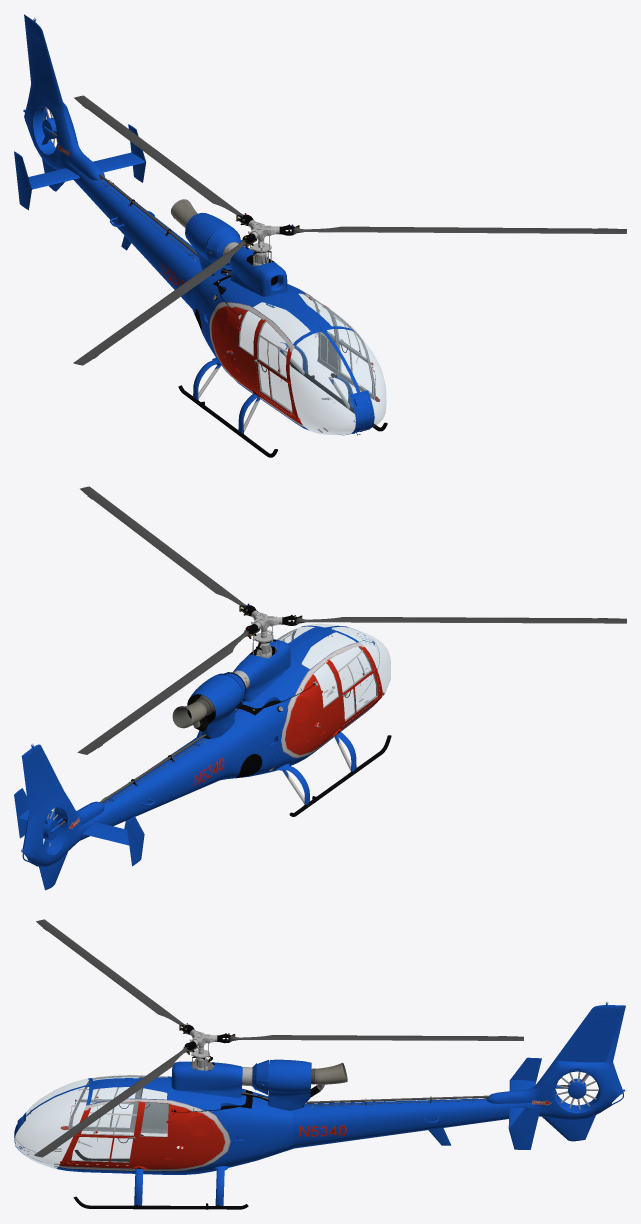
The model's file is GAZL.glb.
3 views of the same model, one above another, from view 1: azimuth 30°, elevation 25°; view 2: azimuth 150°, elevation 25°; view 3: azimuth 270°, elevation 25° (orthographic). The views are drawn at different scales.
Visible parts, largest first — view 1: fuselage; view 2: fuselage; view 3: fuselage.
Part boxes in pixels (bbox=[...]): fuselage: bbox=[14, 14, 626, 457]; fuselage: bbox=[14, 486, 626, 890]; fuselage: bbox=[14, 919, 626, 1209].
Size of the model in its own units: 9.76 by 3.56 by 10.62.
Materials: 5 (1 with a texture image).
